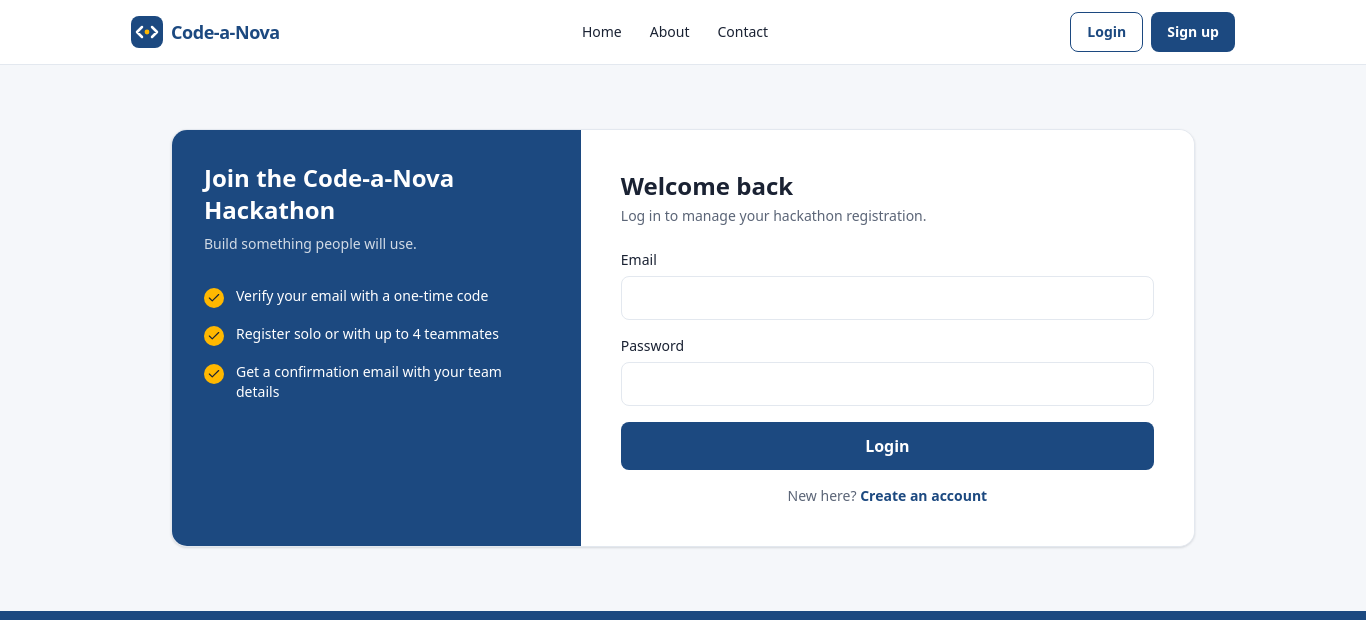
Scenario: login, guards and dashboard › unverified account offers "Verify now", which resends an OTP and opens the OTP page
Type "aanya@example.com" into the field labelled "Email" at (887, 298), box [621, 276, 1154, 320]
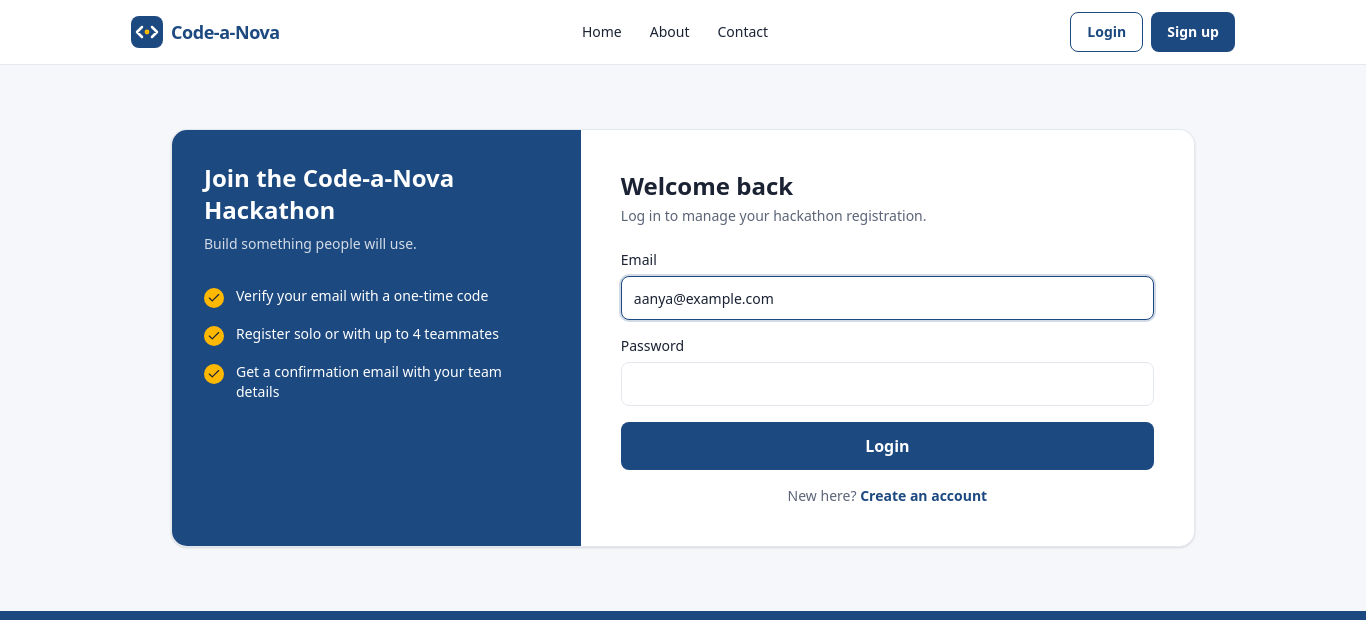
Type "Passw0rdOK" into the password field labelled "Password" at (887, 384), box [621, 362, 1154, 406]
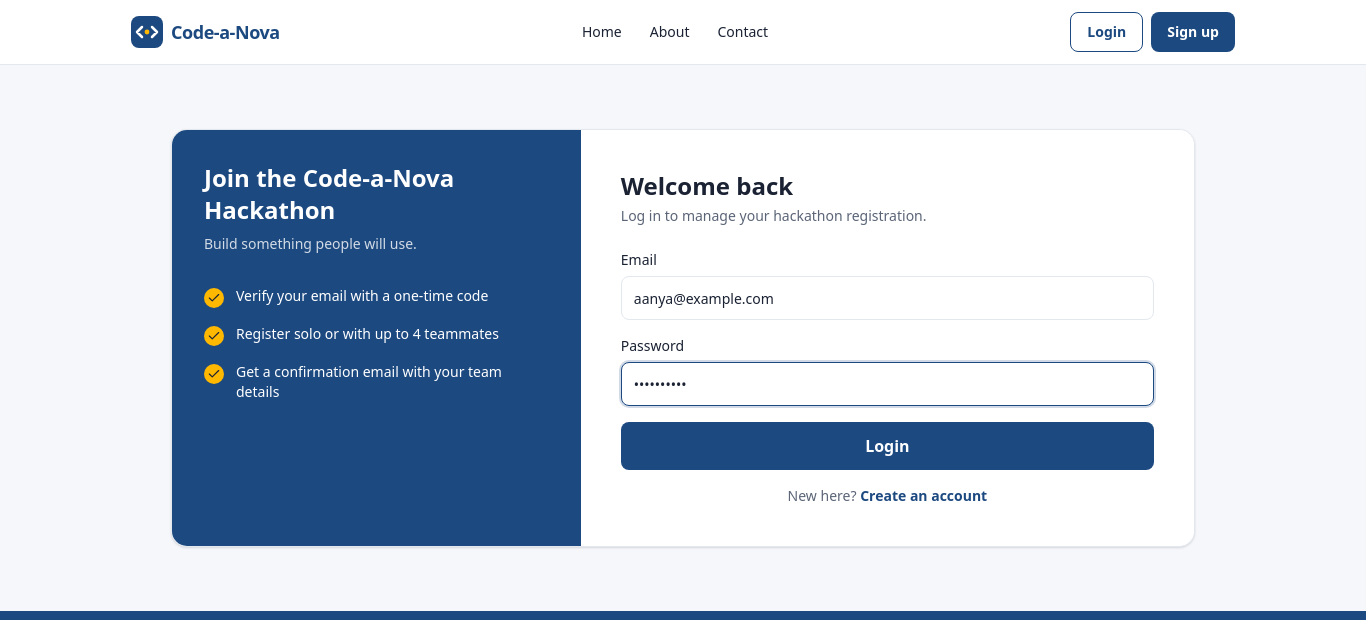
Click the button "Login" at (887, 446), box [621, 422, 1154, 470]
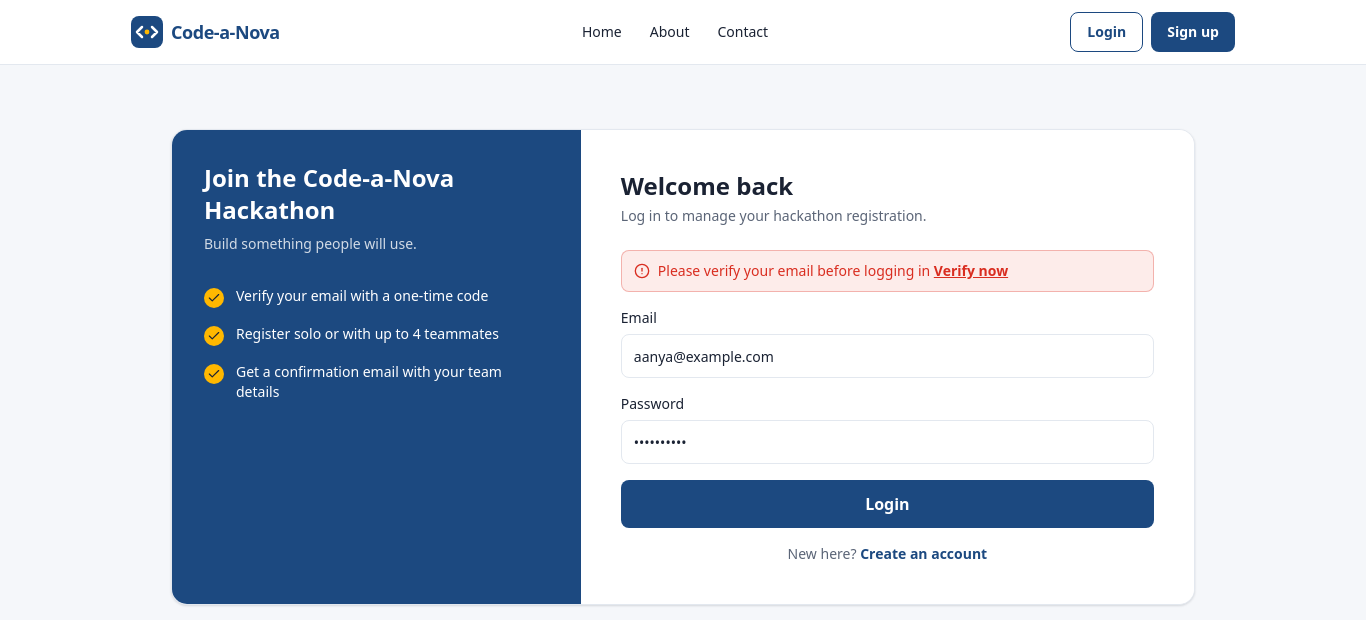
Click the button "Verify now" at (971, 271), box [934, 261, 1008, 281]
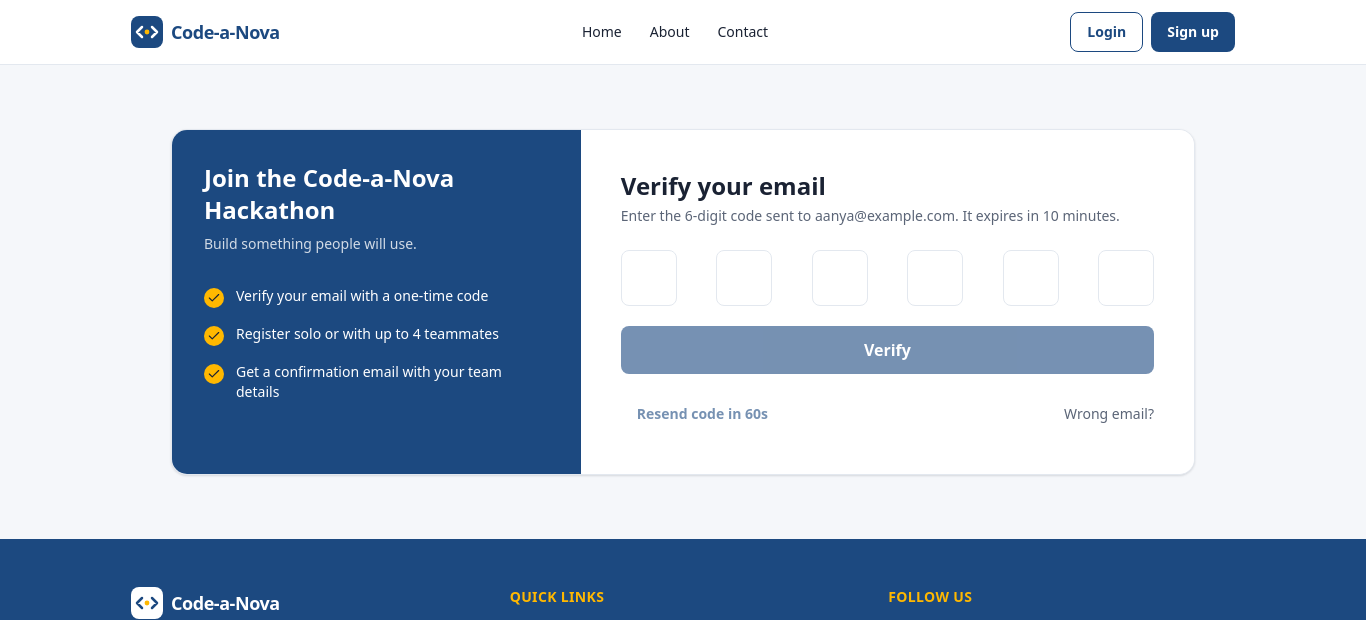
Expected: the heading "Verify your email" is shown, [621, 169, 826, 202]
